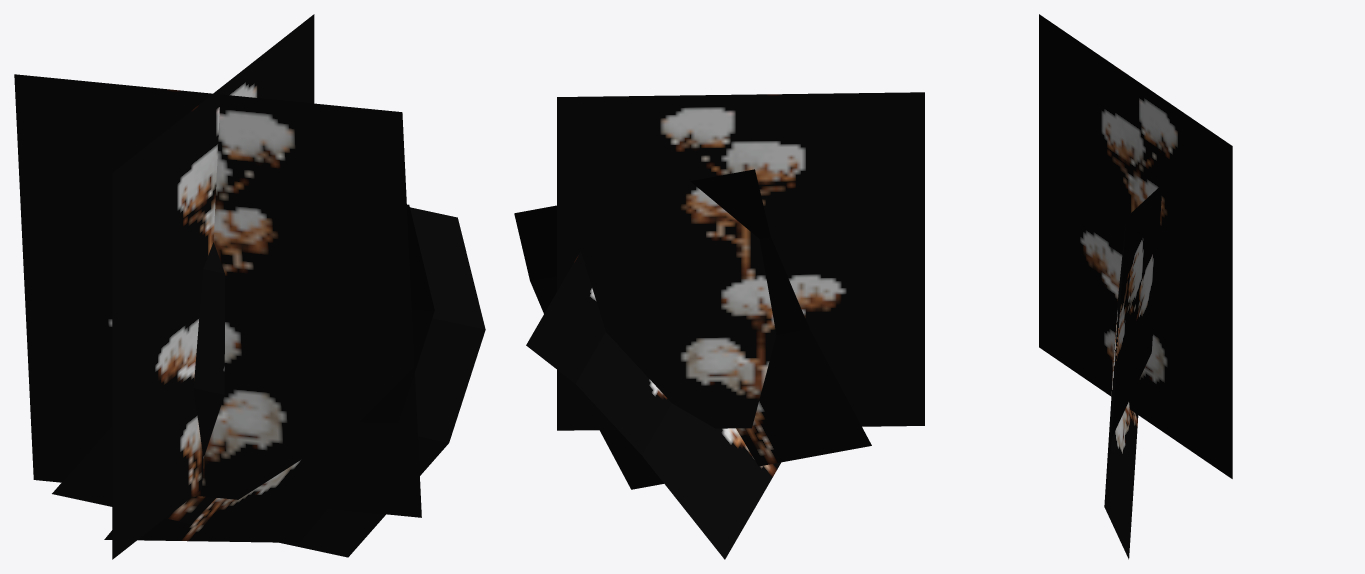
The model's file is cotton.fbx.
The picture shows the model from 3 angles, left to right: view 1: azimuth 30°, elevation 25°; view 2: azimuth 150°, elevation 25°; view 3: azimuth 270°, elevation 25°; orthographic projection. The views are drawn at different scales.
Parts seen in each view (by area): view 1: Plane.046; view 2: Plane.046; view 3: Plane.046.
Boxes of the visible parts, x1,y1,x2,y2 form: Plane.046: [14, 14, 485, 559]; Plane.046: [514, 92, 924, 559]; Plane.046: [1039, 14, 1232, 559].
Size of the model in its own units: 164 by 190 by 158.
